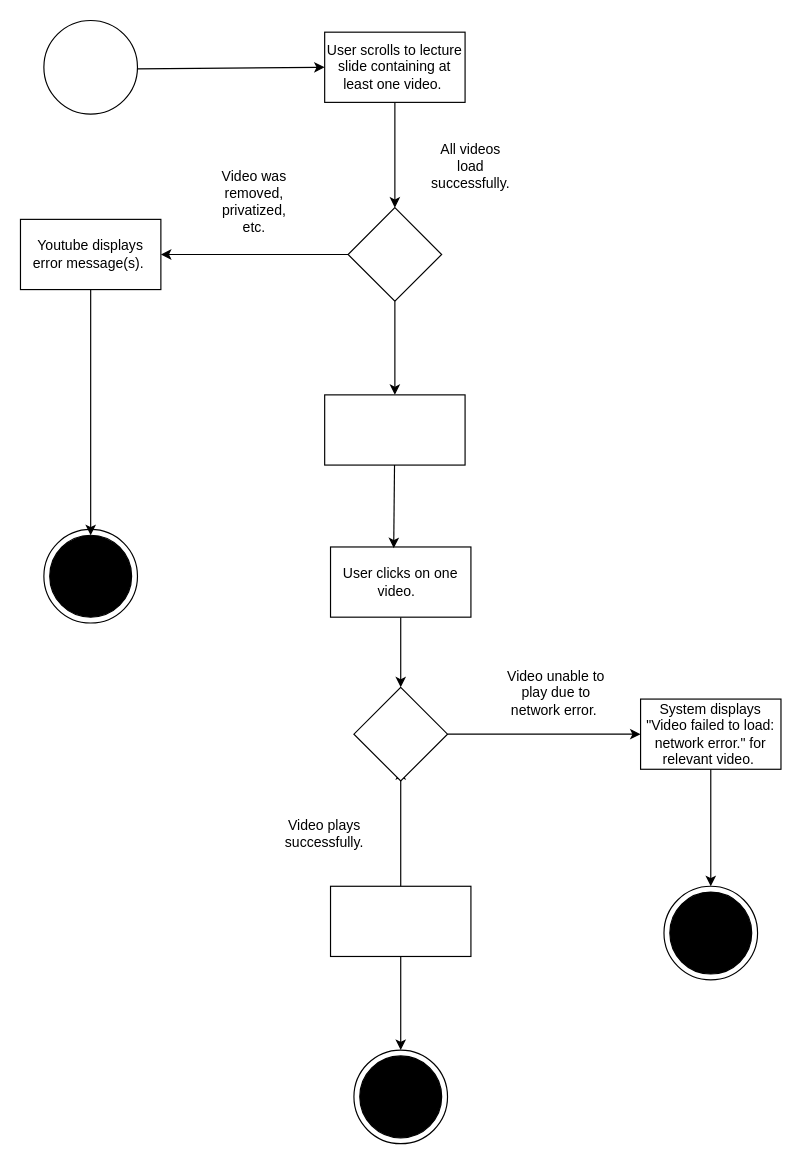
The diagram is 801 pixels wide and 1164 high, and some of its shapes have lost their labels. Here are the shapes that lost their labels. From the top down, the centre of each, then its label:
At (394,429): "System displays playable video(s).".
At (400,920): "System plays video.".
